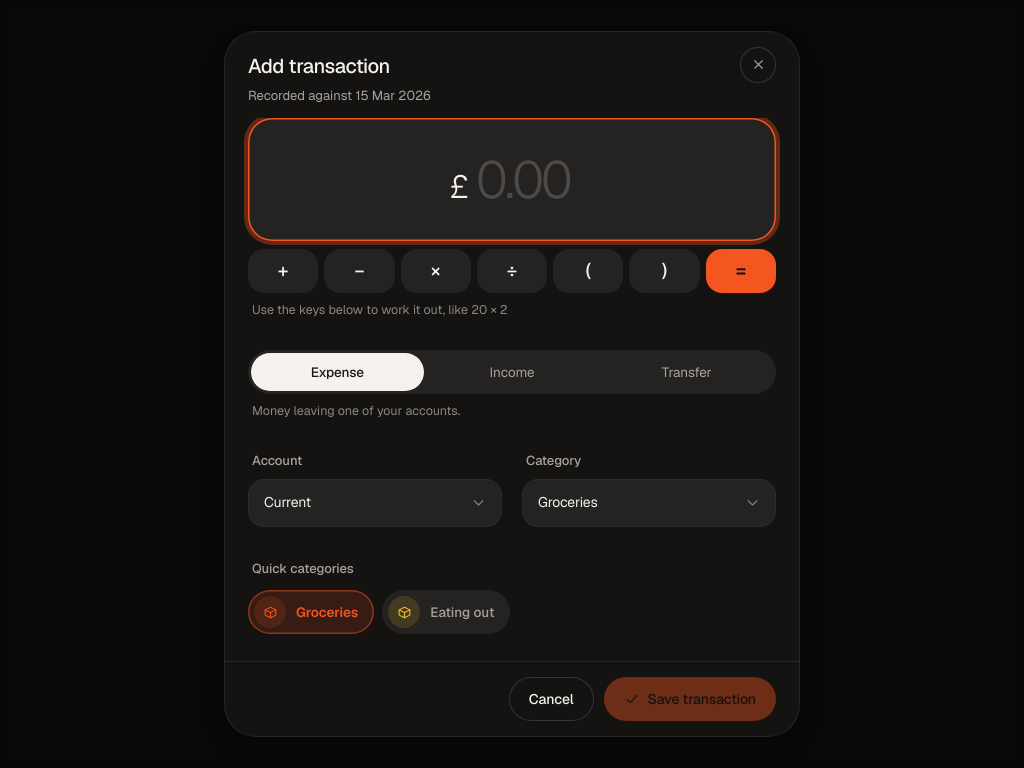
Scenario: what the form knows before you leave it › offers a new category from inside the dropdown that is missing it
The width and height of the screenshot is (1024, 768).
Click the dropdown named "Category" at (649, 503), box [522, 479, 776, 527]
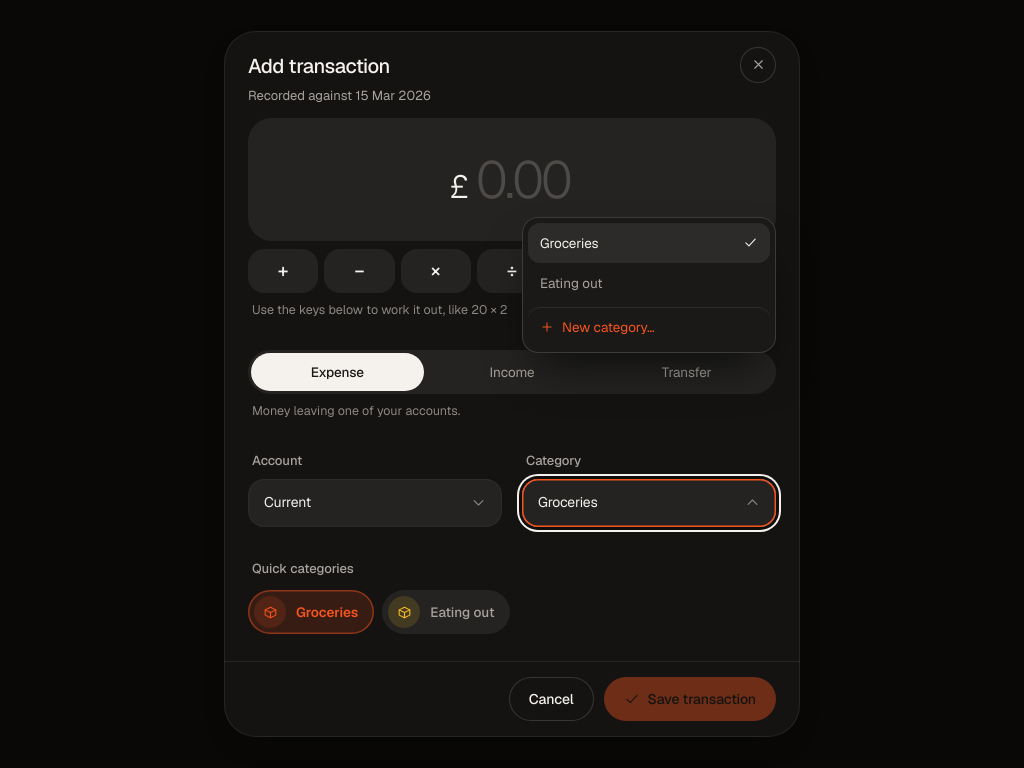
Click the option "New category…" at (649, 327), box [528, 307, 770, 348]
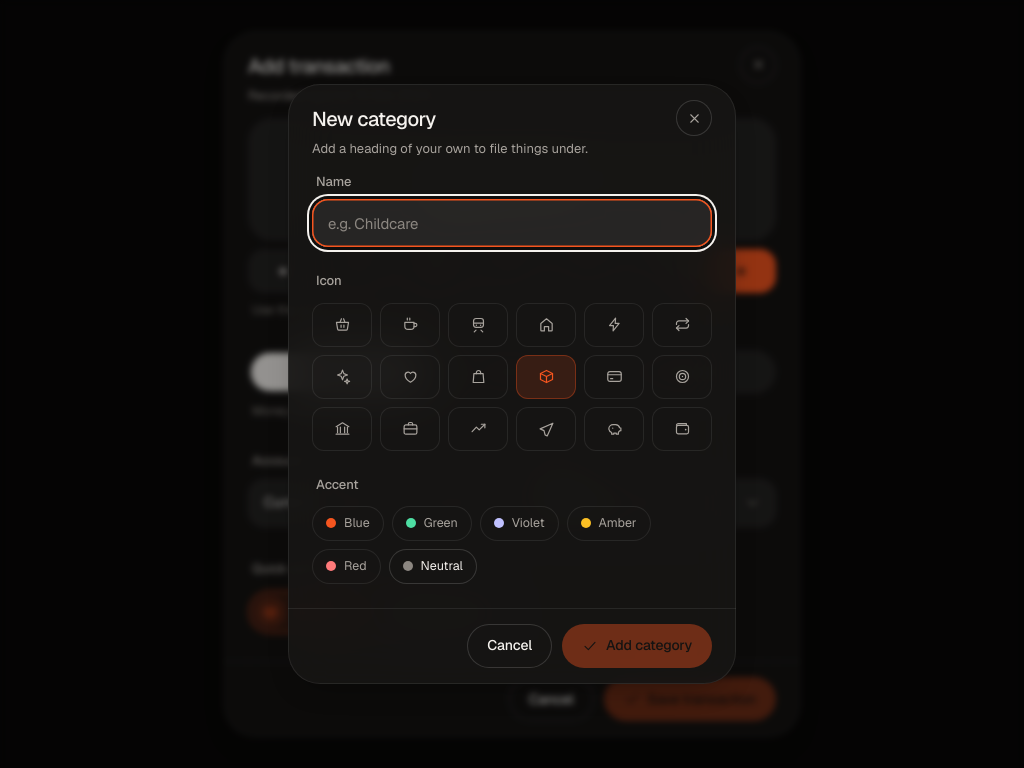
Now the dialog "New category" is shown, box [288, 84, 736, 684]
